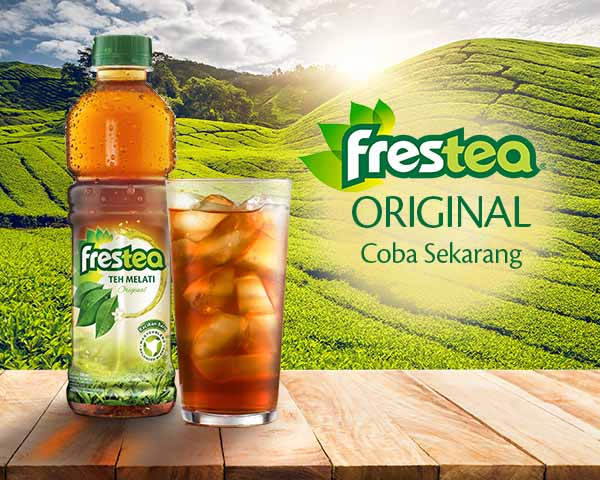botol: (67, 30, 175, 414)
